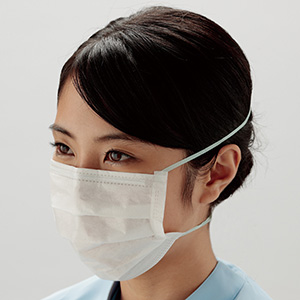mask: (45, 166, 173, 273)
